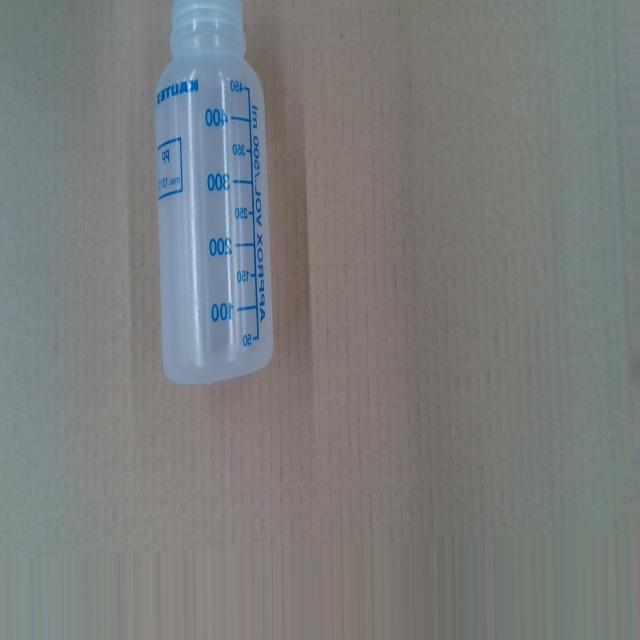bottle: (151, 2, 278, 390)
